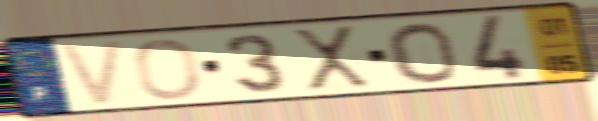3: (223, 32, 289, 94)
4: (468, 13, 530, 83)
O: (383, 20, 462, 85), (132, 37, 205, 102)
V: (54, 37, 129, 109)
X: (287, 23, 375, 94)
